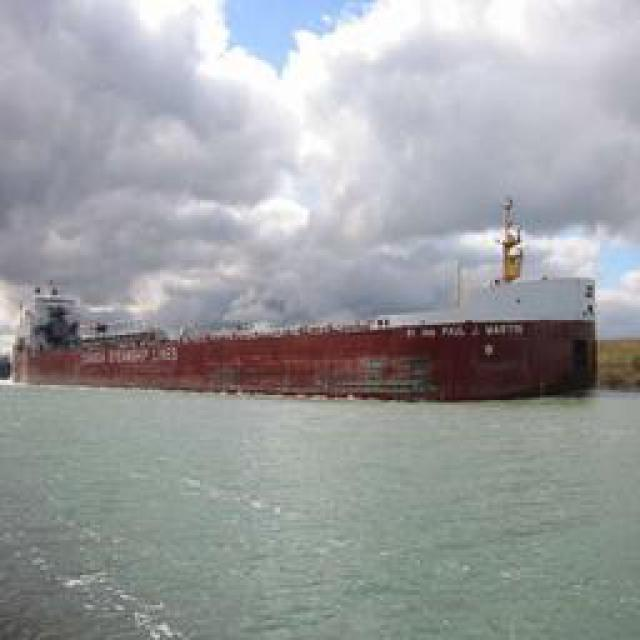Ship: (8, 188, 604, 407)
